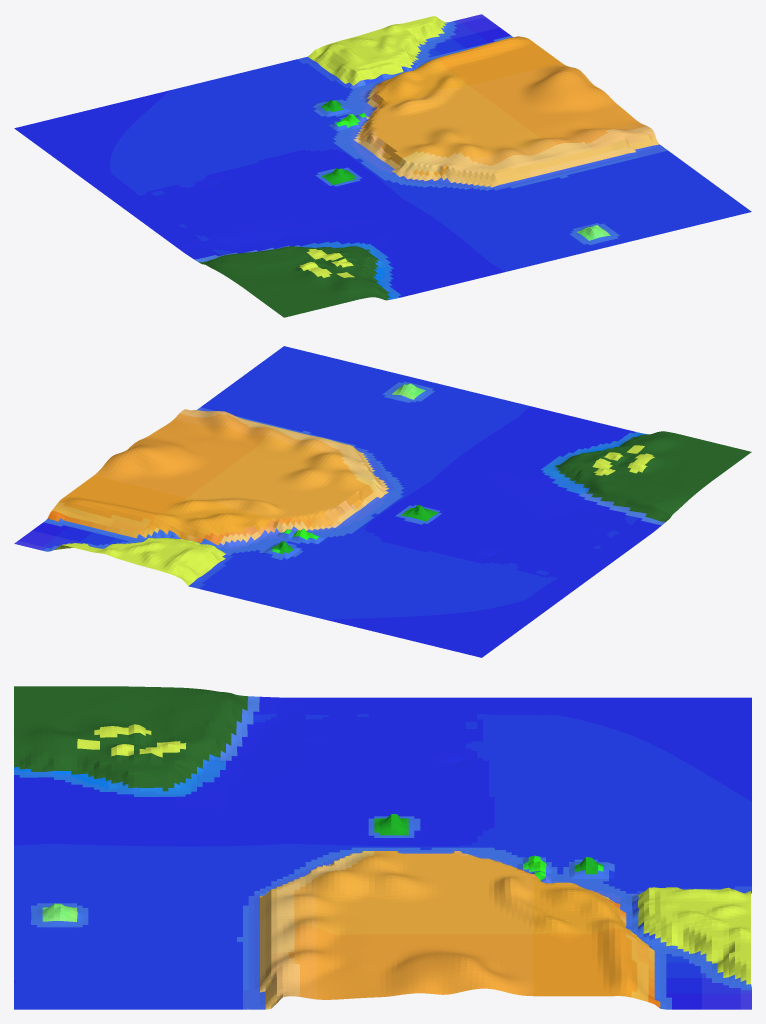
The model's file is MG1_MapaMundo_Test_1xSubdivide (1).fbx.
3 renders of one model, top to bottom at view 1: azimuth 30°, elevation 25°; view 2: azimuth 150°, elevation 25°; view 3: azimuth 270°, elevation 25°, orthographic. The views are drawn at different scales.
Parts seen in each view (by area): view 1: Plane; view 2: Plane; view 3: Plane.
Part boxes in pixels (bbox=[...]): Plane: bbox=[14, 14, 751, 317]; Plane: bbox=[14, 346, 751, 657]; Plane: bbox=[14, 686, 751, 1009].
Size of the model in its own units: 391 by 19.28 by 390.
